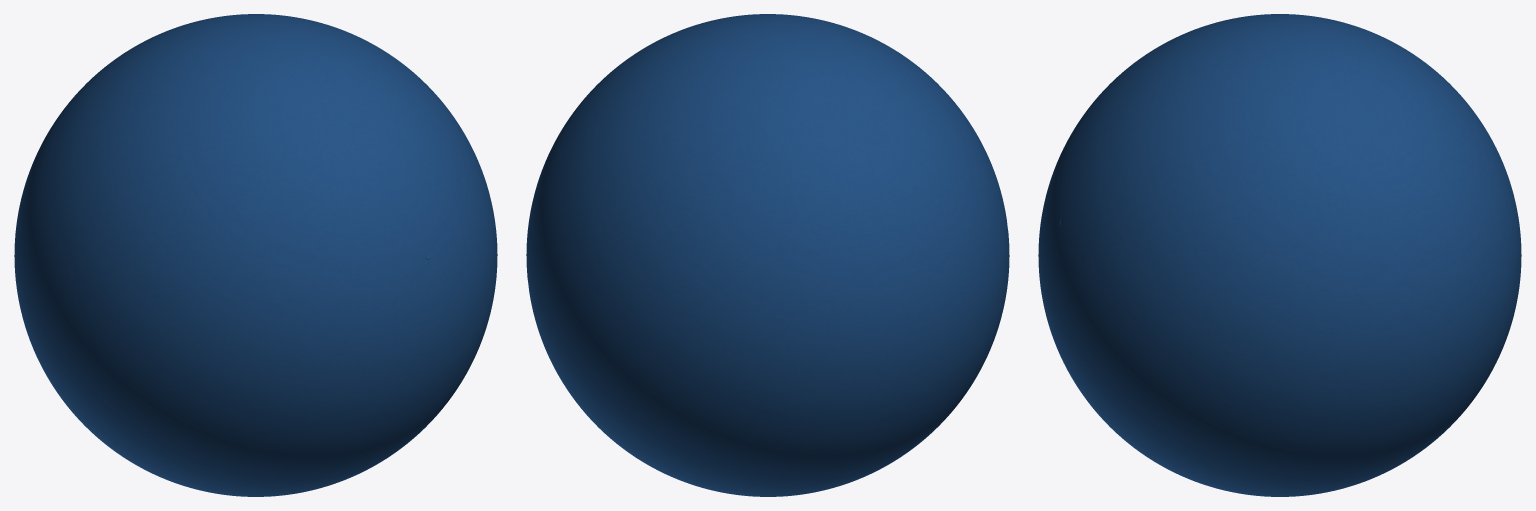
File: swiss_stability_ball.glb
3 views of the same model, side by side, from view 1: azimuth 30°, elevation 25°; view 2: azimuth 150°, elevation 25°; view 3: azimuth 270°, elevation 25° (orthographic).
Parts seen in each view (by area): view 1: SwissBallBody; view 2: SwissBallBody; view 3: SwissBallBody.
Boxes of the visible parts, box(x1,y1,x2,y2) form: SwissBallBody: box(14, 14, 497, 496); SwissBallBody: box(526, 14, 1009, 496); SwissBallBody: box(1038, 14, 1521, 496).
Bounding box in the file's own units: 0.65 × 0.6485 × 0.65.
2 materials, 2 textured.
